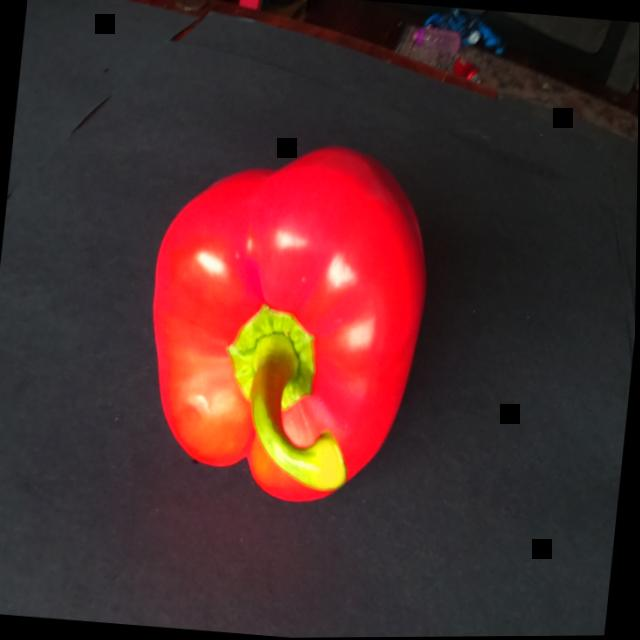Redpepper: (117, 96, 470, 547)
